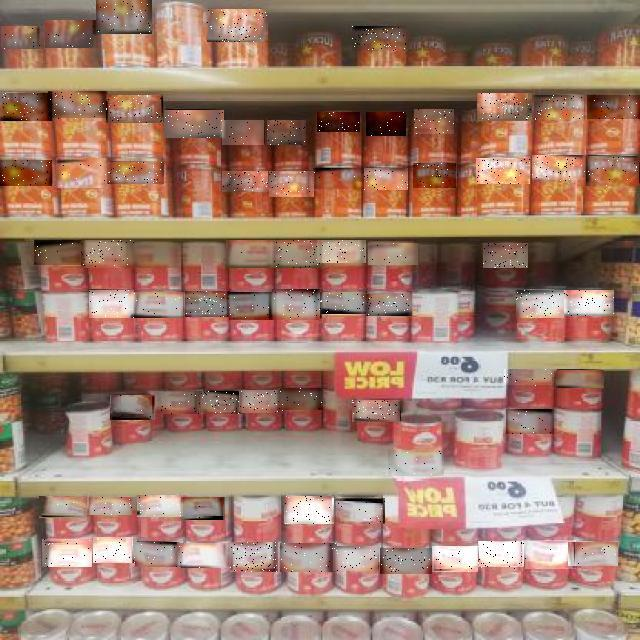Beans: (208, 9, 268, 42), (96, 0, 152, 34), (165, 110, 225, 138), (48, 92, 107, 120), (281, 543, 337, 572), (106, 95, 163, 123), (586, 156, 639, 186), (522, 540, 576, 569), (477, 93, 532, 121), (82, 240, 136, 268), (46, 20, 100, 48), (56, 158, 106, 188), (272, 289, 320, 320), (388, 450, 444, 476), (0, 93, 52, 121), (270, 240, 322, 268), (230, 542, 278, 572), (476, 159, 530, 185), (129, 293, 183, 319), (284, 496, 334, 524), (42, 539, 92, 567), (226, 240, 276, 268), (332, 498, 385, 524), (532, 156, 585, 182), (380, 548, 432, 574), (0, 160, 52, 186), (34, 240, 88, 265), (352, 26, 406, 51), (516, 291, 564, 319), (564, 290, 614, 316), (479, 542, 525, 570), (230, 292, 276, 320), (587, 95, 640, 119), (89, 290, 134, 318), (107, 162, 164, 184), (534, 95, 584, 120), (128, 243, 178, 268), (506, 409, 554, 434), (568, 542, 618, 566), (182, 543, 230, 568), (433, 546, 479, 572), (186, 291, 232, 317), (269, 171, 314, 197), (136, 542, 182, 567), (317, 240, 366, 263), (110, 395, 155, 420), (333, 546, 378, 571), (483, 243, 528, 268), (368, 243, 418, 265), (94, 537, 136, 563), (137, 495, 186, 517), (320, 292, 369, 314), (413, 163, 456, 188), (313, 168, 364, 189), (182, 497, 228, 520), (352, 400, 400, 422), (39, 497, 87, 519), (222, 120, 264, 145), (414, 110, 454, 136), (366, 295, 412, 317), (268, 120, 308, 145), (364, 168, 408, 190), (242, 390, 284, 413), (202, 391, 244, 414), (223, 171, 269, 192), (2, 26, 44, 49), (366, 112, 406, 136), (280, 388, 323, 410), (162, 391, 202, 414), (505, 370, 553, 388), (556, 370, 604, 388), (317, 113, 360, 133), (90, 497, 136, 515)
